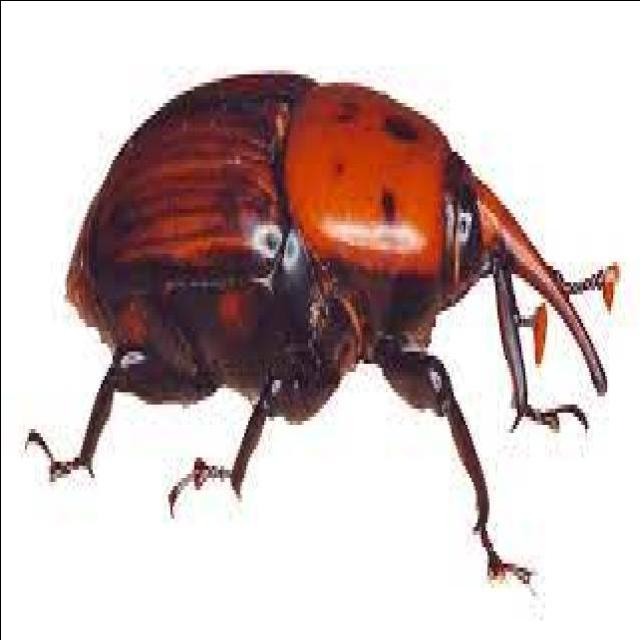Red-palm-weevil: (21, 64, 622, 433)
